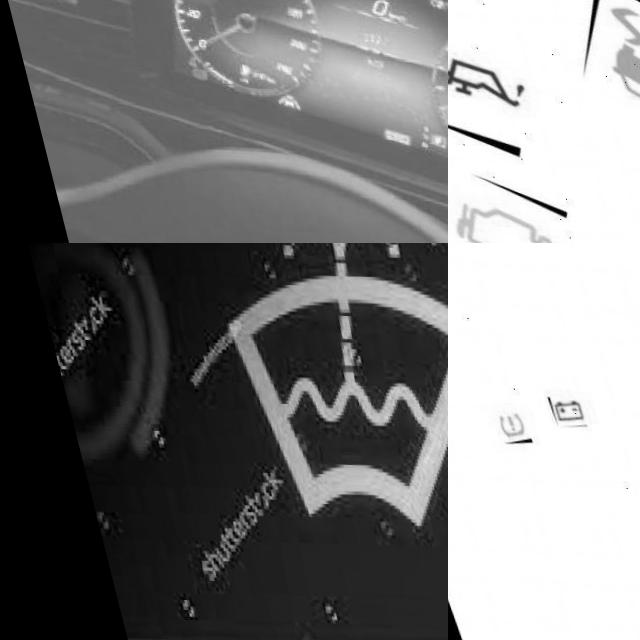Low fuel level: (225, 61, 242, 74)
Washer Fluid: (191, 243, 448, 526)
